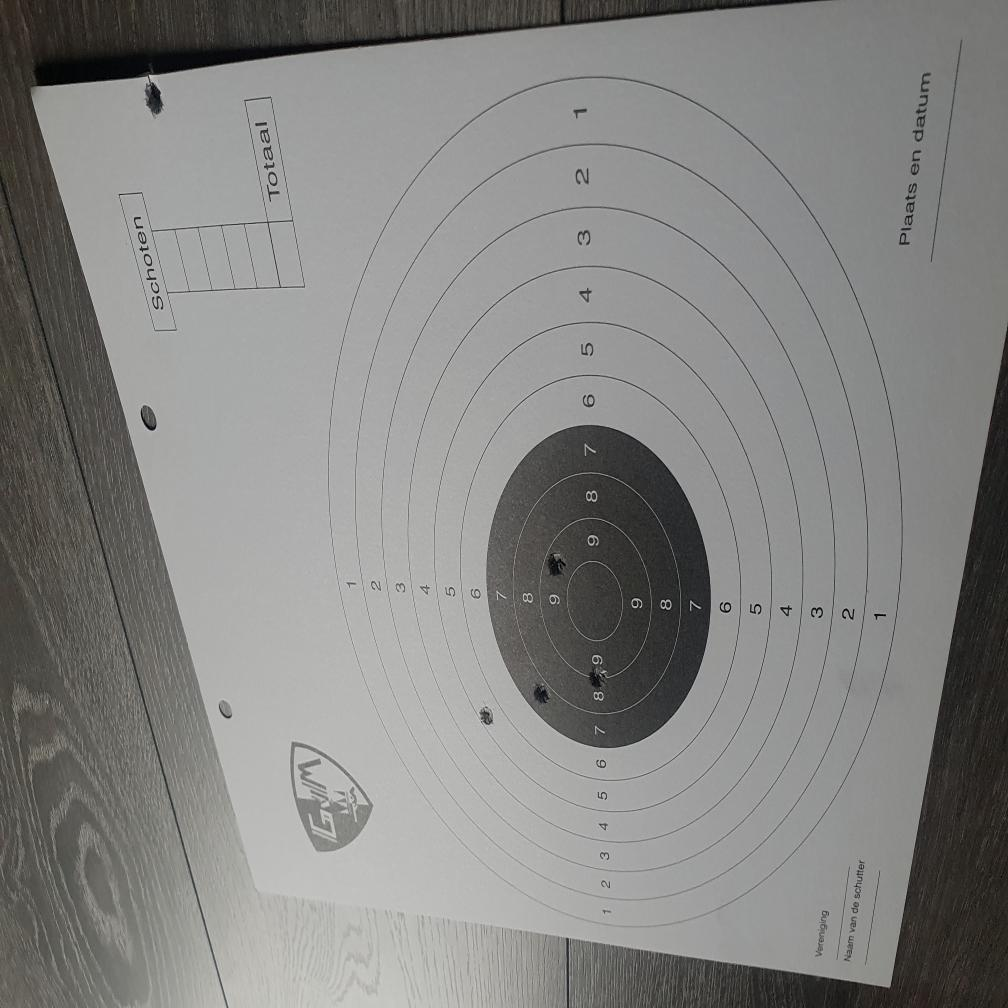0: (142, 76, 165, 120)
5: (478, 698, 495, 731)
7: (532, 676, 550, 710)
9: (546, 544, 567, 584), (588, 664, 608, 694)
Target: (325, 66, 906, 937)
black_contour: (486, 424, 710, 749)
